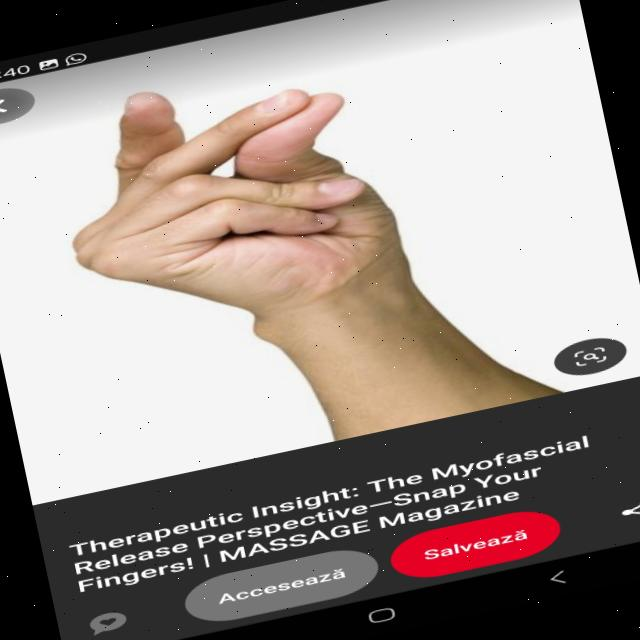hands: (26, 0, 556, 367)
